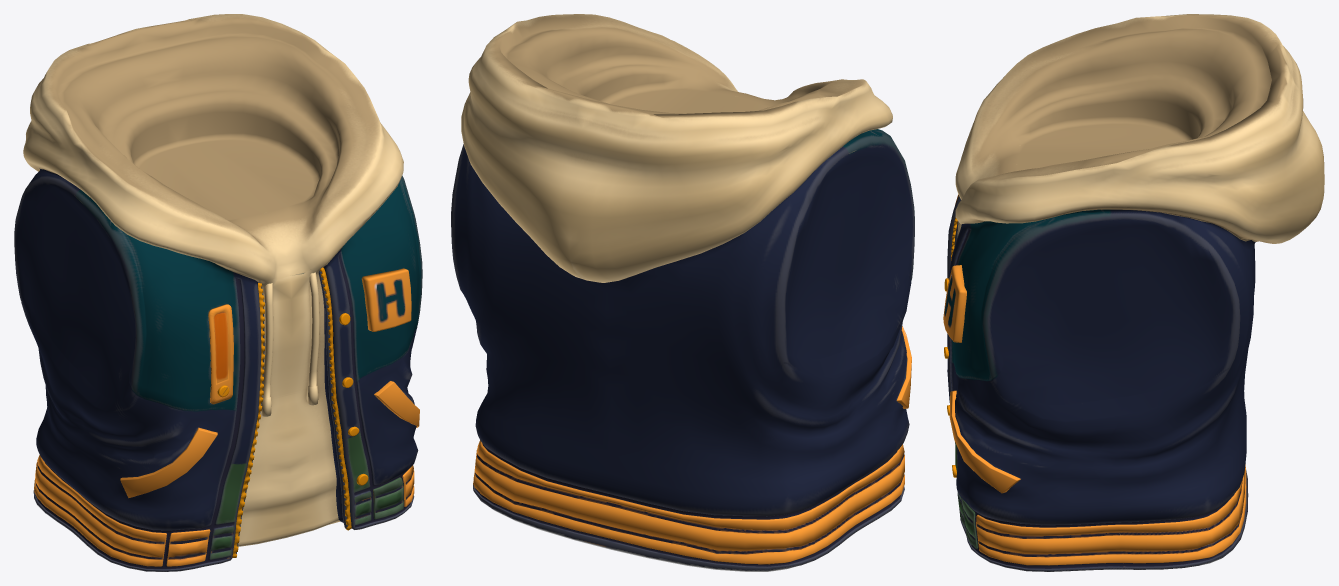
Rendered from Body_low.glb.
3 renders of one model, left to right at view 1: azimuth 30°, elevation 25°; view 2: azimuth 150°, elevation 25°; view 3: azimuth 270°, elevation 25°, orthographic. The views are drawn at different scales.
Visible parts, largest first — view 1: Body_low; view 2: Body_low; view 3: Body_low.
Boxes of the visible parts, left/top/right/bottom form: Body_low: left=14, top=14, right=422, bottom=571; Body_low: left=451, top=14, right=914, bottom=571; Body_low: left=943, top=14, right=1324, bottom=571.
Size of the model in its own units: 0.3716 by 0.471 by 0.3814.
Materials: 3 (1 with a texture image).
